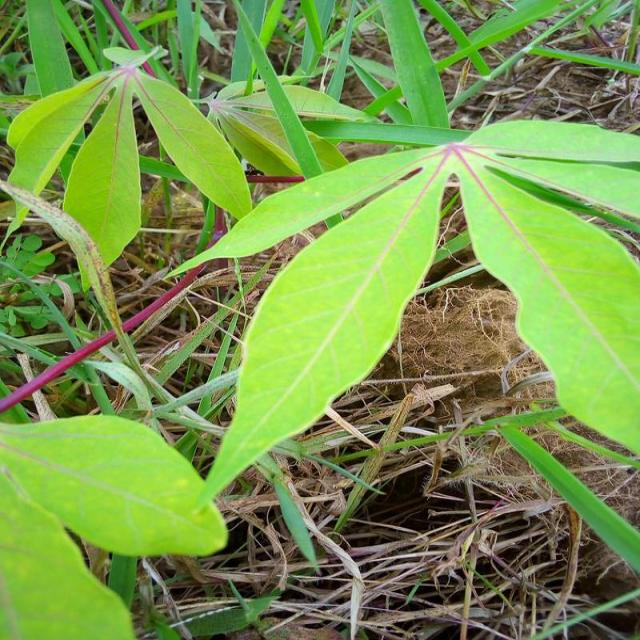cassava leaf: (193, 148, 450, 511), (454, 142, 638, 457), (5, 44, 252, 271), (0, 412, 229, 558)
